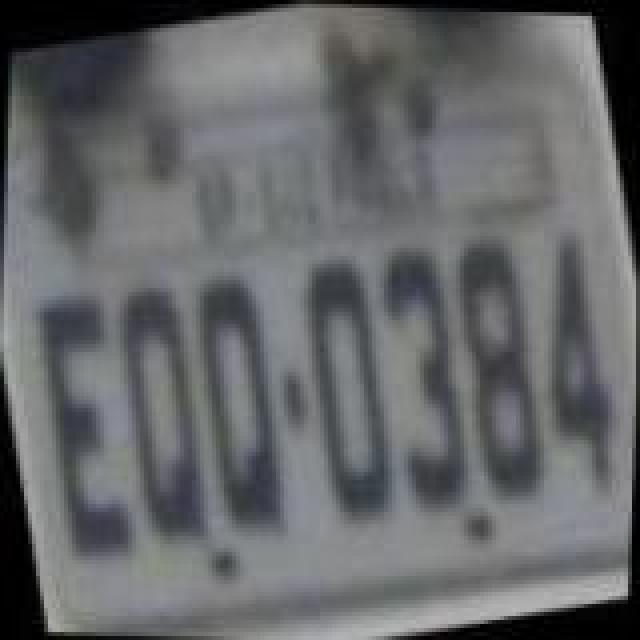3: (354, 232, 486, 516)
4: (518, 224, 638, 492)
8: (430, 224, 562, 512)
E: (14, 284, 150, 564)
O: (282, 248, 414, 528)
Q: (174, 260, 306, 540), (98, 274, 226, 554)
